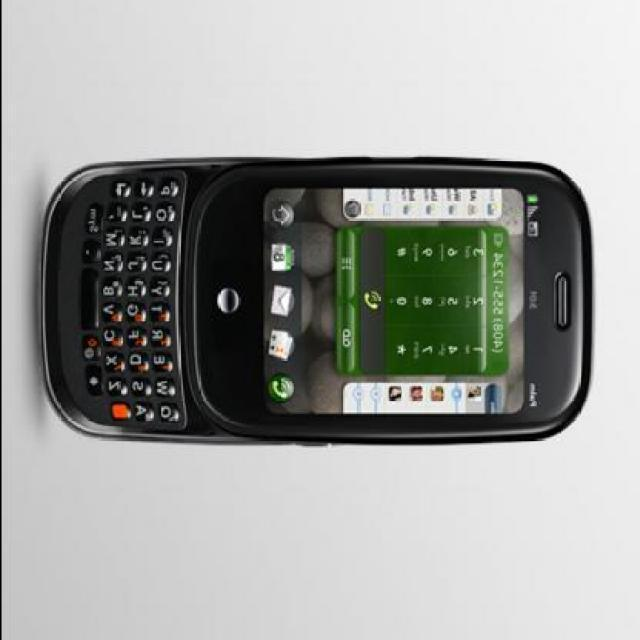phone: (59, 144, 602, 458)
